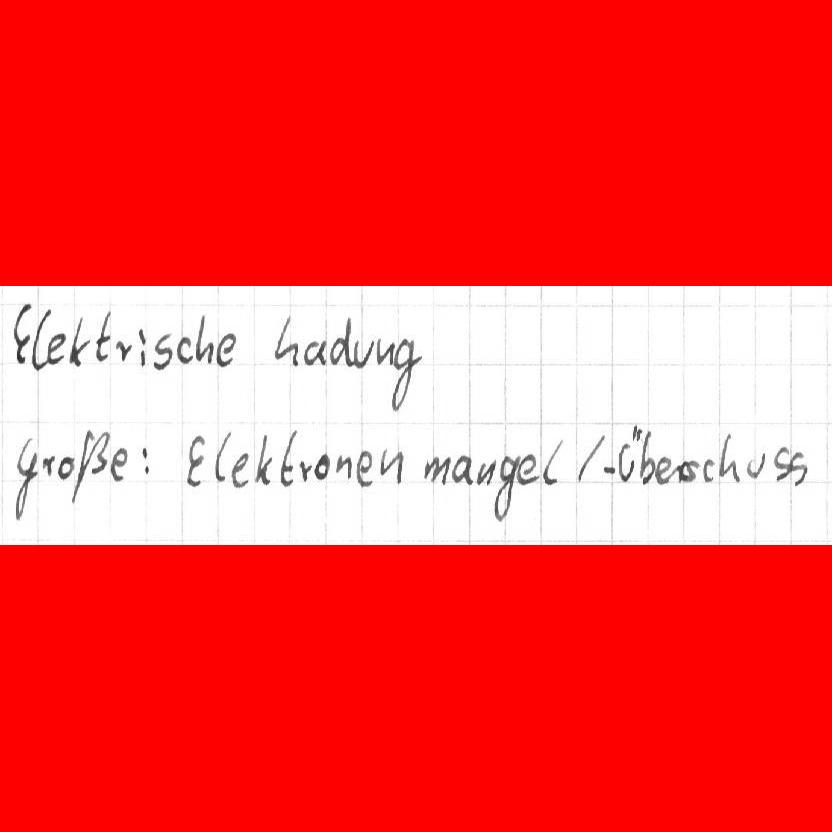Char: (70, 427, 111, 505), (12, 435, 39, 522), (389, 338, 421, 410), (493, 453, 520, 523), (270, 314, 300, 369), (616, 425, 641, 483), (252, 433, 278, 487), (184, 431, 208, 489), (328, 316, 354, 368), (717, 431, 743, 482), (577, 433, 604, 482), (277, 429, 299, 486), (540, 437, 565, 487), (12, 302, 32, 364), (32, 307, 51, 371), (68, 315, 91, 367), (212, 430, 232, 484), (94, 310, 113, 362), (195, 314, 214, 366), (422, 453, 451, 487), (638, 429, 655, 487), (379, 446, 404, 485), (152, 331, 176, 369), (228, 450, 251, 489), (786, 450, 809, 489), (215, 331, 239, 367), (354, 449, 375, 488), (45, 331, 68, 366), (770, 444, 791, 482), (450, 452, 474, 485), (516, 451, 539, 485), (302, 339, 329, 367), (474, 457, 498, 488), (110, 444, 130, 481), (353, 337, 375, 368), (333, 451, 354, 483), (652, 454, 673, 486), (744, 451, 768, 479), (375, 334, 395, 367), (175, 333, 194, 366), (114, 338, 136, 366), (136, 325, 149, 368), (313, 450, 331, 481), (139, 444, 154, 479), (56, 454, 76, 480), (683, 456, 699, 484), (672, 458, 687, 486), (297, 457, 313, 482), (41, 453, 56, 479), (701, 456, 715, 483), (601, 462, 618, 476)
